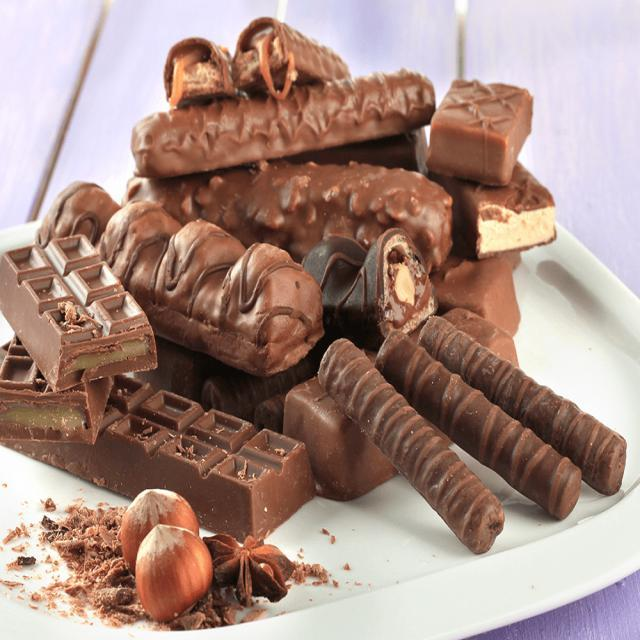Chocolate bar packaged: (1, 336, 319, 545), (35, 180, 329, 376), (317, 336, 507, 556), (375, 331, 585, 527), (119, 161, 457, 273), (130, 72, 436, 158), (2, 236, 162, 381), (301, 234, 441, 340), (430, 74, 540, 184), (451, 154, 561, 262), (234, 11, 360, 85), (158, 31, 235, 105)
